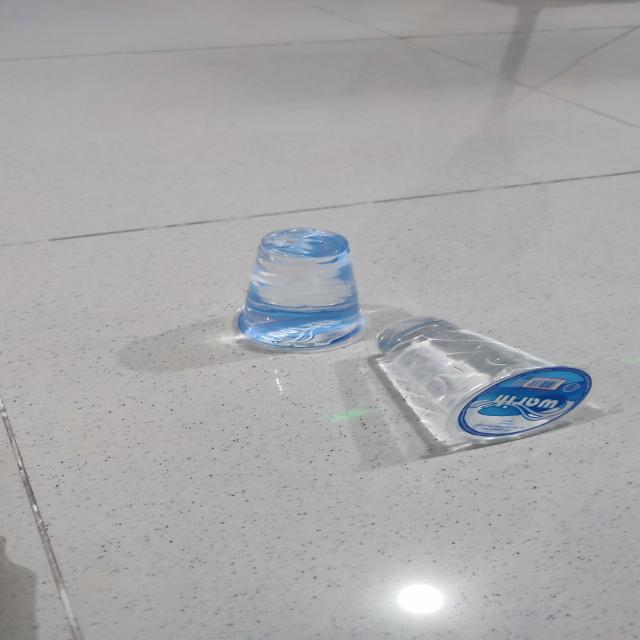air gelas: (364, 312, 604, 444), (233, 226, 376, 358)
